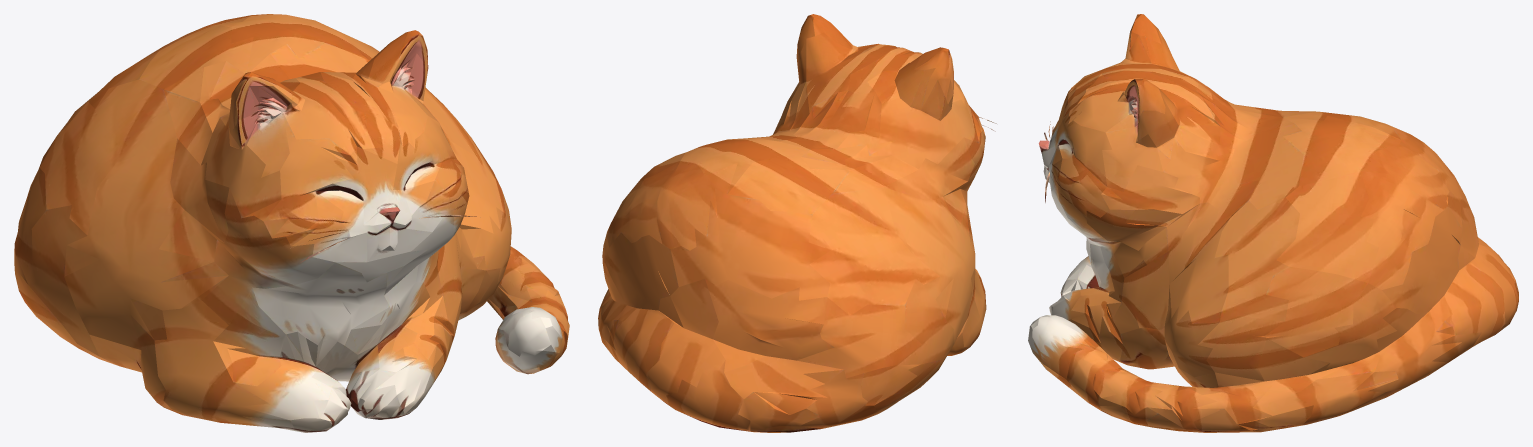
File: cat.glb
3 views of the same model, side by side, from view 1: azimuth 30°, elevation 25°; view 2: azimuth 150°, elevation 25°; view 3: azimuth 270°, elevation 25° (orthographic). The views are drawn at different scales.
Bounding box in the file's own units: 1.61 × 1.24 × 1.9.
1 material, 1 textured.
